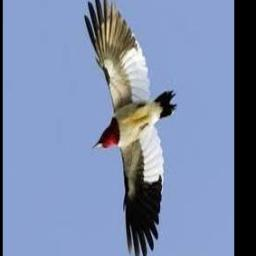Woodpecker: (85, 0, 177, 256)
